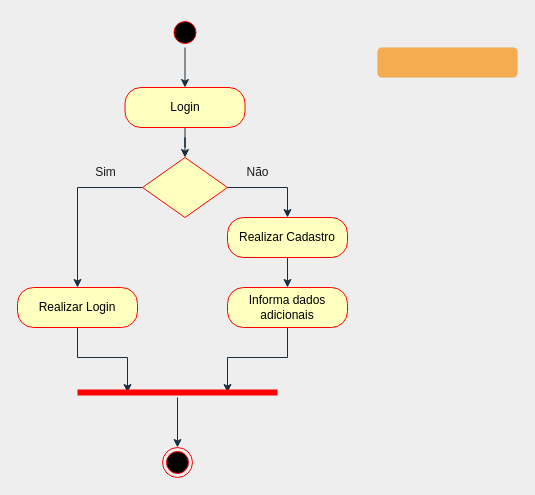
Image size: 535x495. Some labels were removed from this diagram. Each missing label, with the centre of its shape:
Diagrama de Atividade: (447,62)
Já possui cadastro: (185,187)
